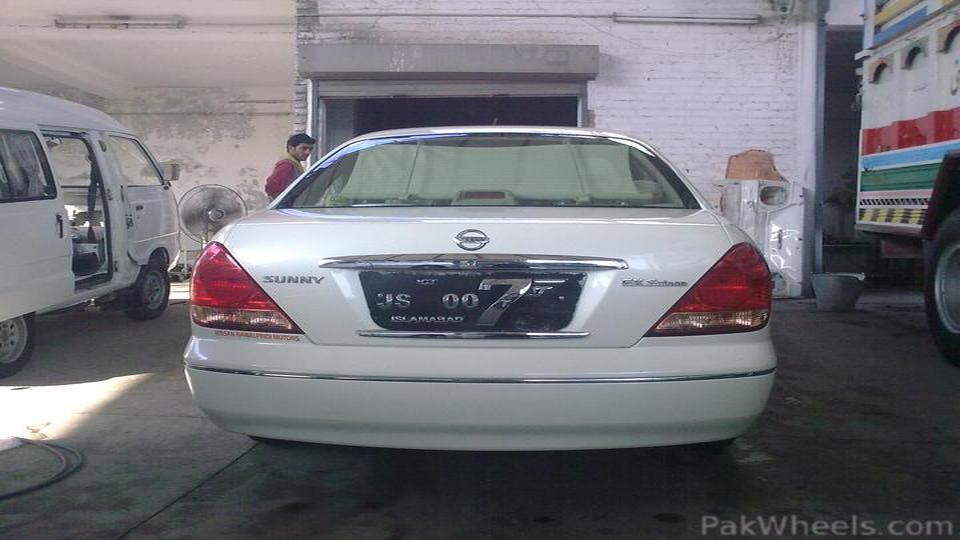NumberPlate: (335, 268, 619, 340)
